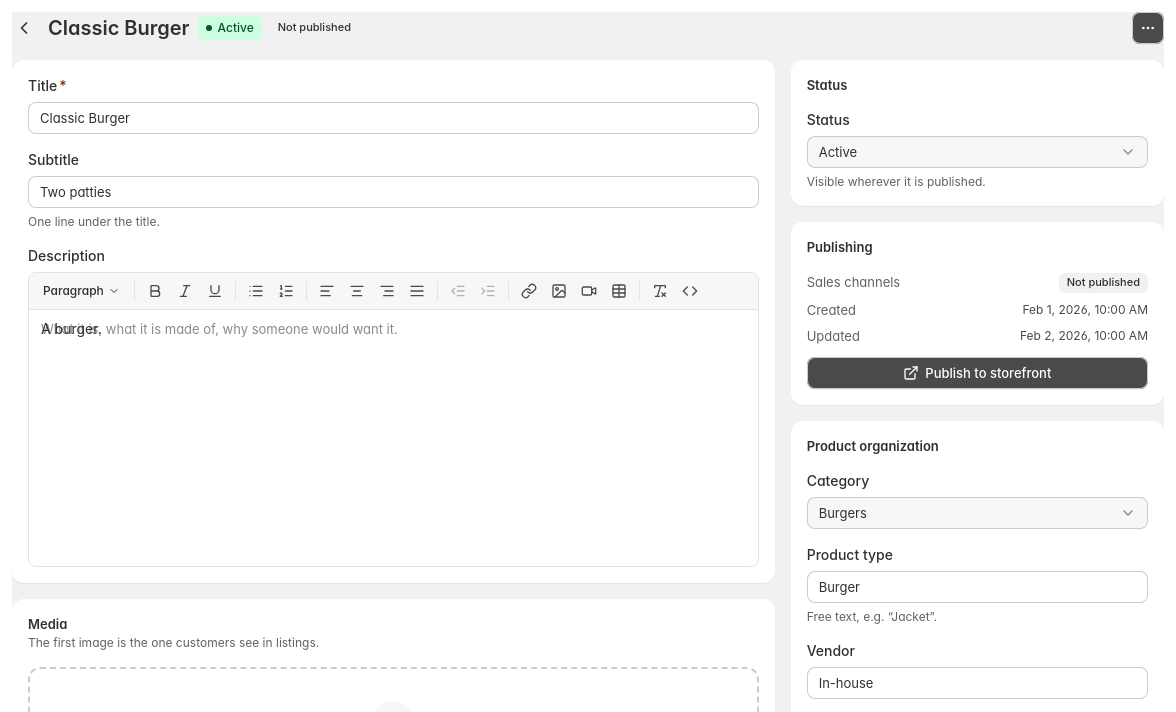
Scenario: ProductEditPage › raises the save bar the moment a field is edited, and discards back
This screenshot has width=1176, height=712.
Type " Deluxe" into the field labelled "Title*".
click(393, 118); type(" Deluxe")  # box [28,102,759,134]
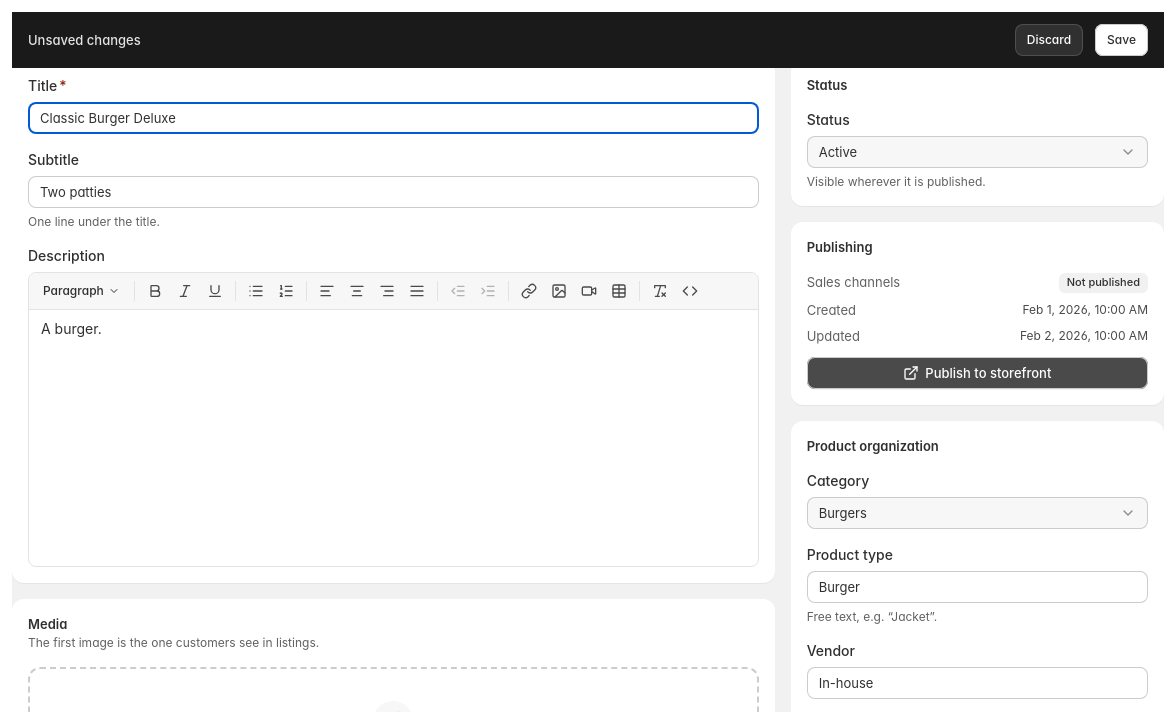
Result: the text "Unsaved changes" is shown at [28,32,141,48]
Click the button "Discard".
click(1049, 40)  # box [1015,24,1083,56]
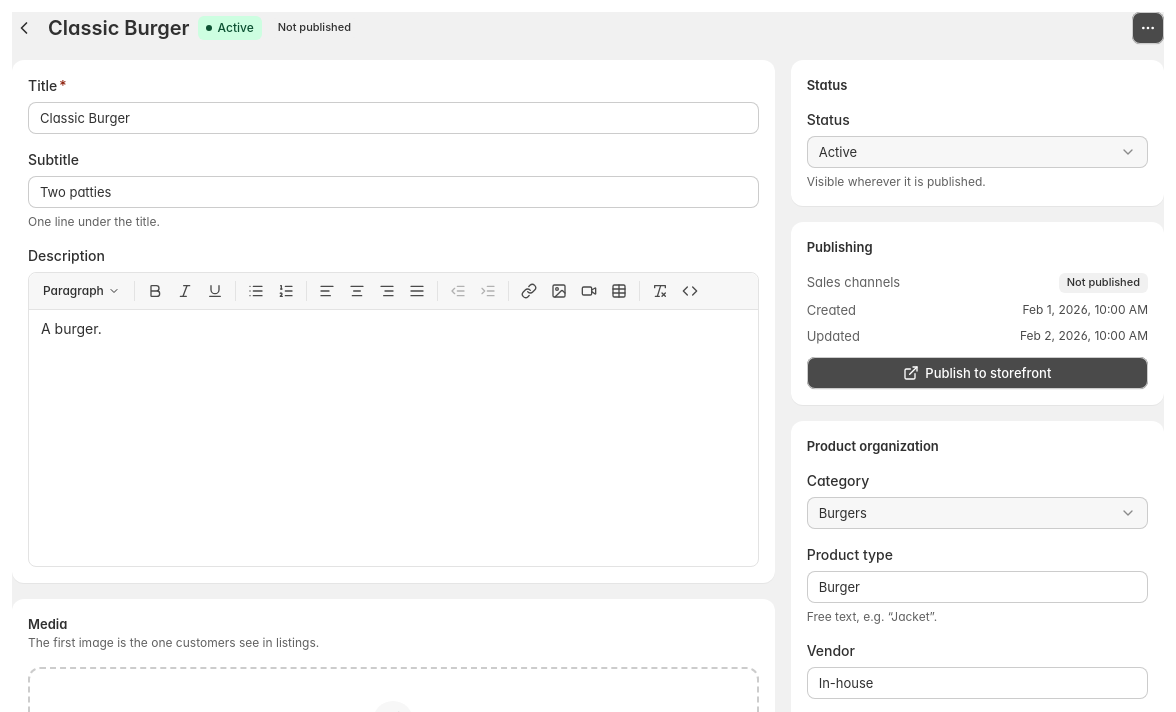
Result: the text "Unsaved changes" is gone
Result: the field labelled "Title*" holds "Classic Burger" at [28,102,759,134]
